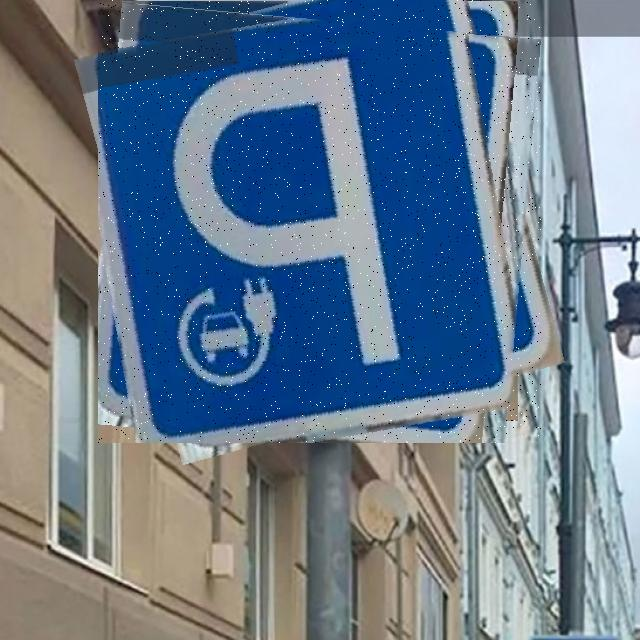parking: (98, 0, 541, 443)
